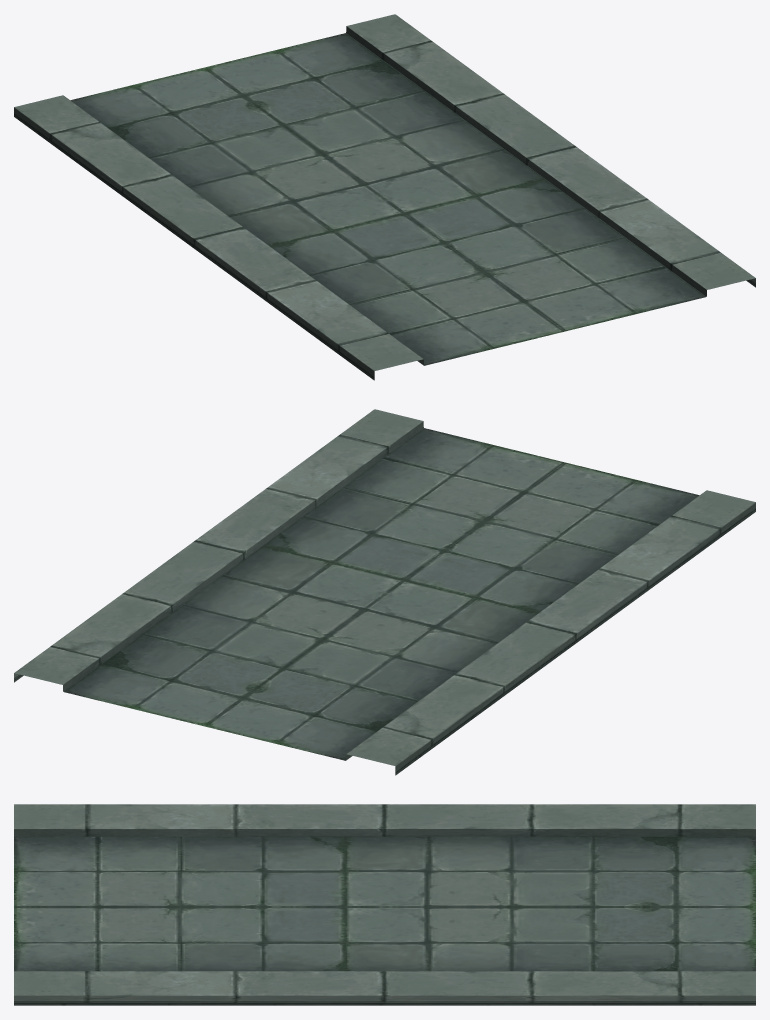
Rendered from JiaYeSi_xiaoyuanlu.FBX.
3 renders of one model, top to bottom at view 1: azimuth 30°, elevation 25°; view 2: azimuth 150°, elevation 25°; view 3: azimuth 270°, elevation 25°, orthographic. The views are drawn at different scales.
Visible parts, largest first — view 1: JiaYeSi_xiaoyuanlu; view 2: JiaYeSi_xiaoyuanlu; view 3: JiaYeSi_xiaoyuanlu.
Part boxes in pixels (bbox=[...]): JiaYeSi_xiaoyuanlu: bbox=[14, 14, 755, 380]; JiaYeSi_xiaoyuanlu: bbox=[14, 409, 755, 775]; JiaYeSi_xiaoyuanlu: bbox=[14, 804, 755, 1005].
Size of the model in its own units: 323 by 7.81 by 529.
